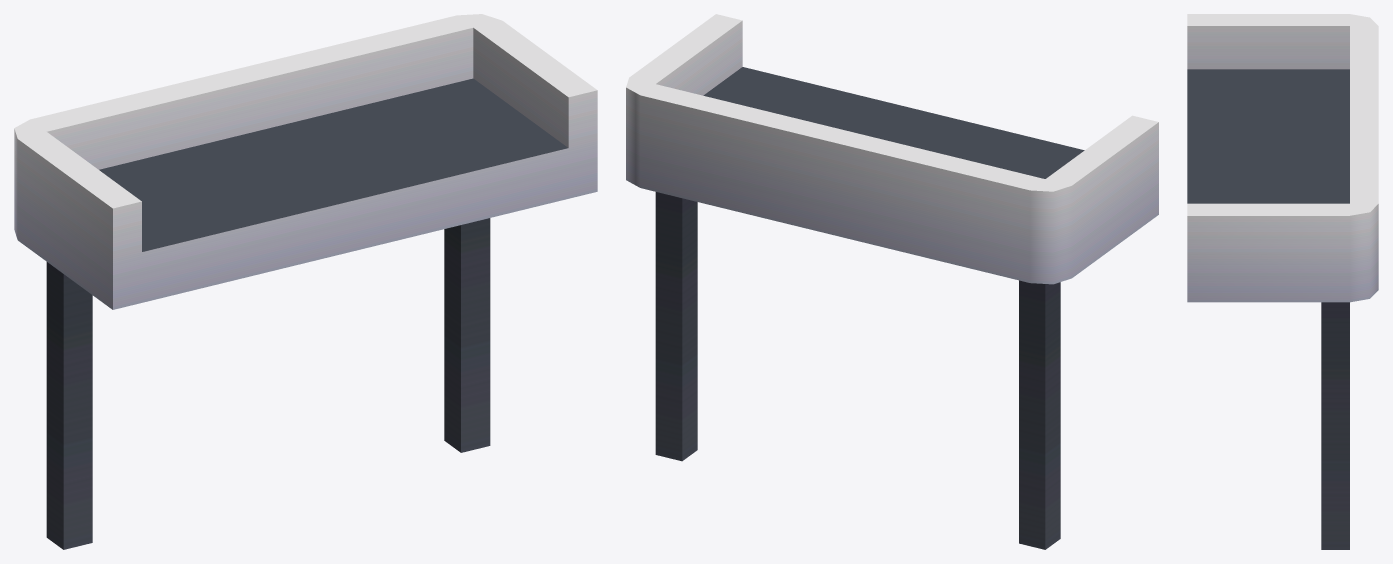
File: detail-overhang.glb
3 views of the same model, side by side, from view 1: azimuth 30°, elevation 25°; view 2: azimuth 150°, elevation 25°; view 3: azimuth 270°, elevation 25° (orthographic). The views are drawn at different scales.
Visible parts, largest first — view 1: detail-overhang; view 2: detail-overhang; view 3: detail-overhang.
Boxes of the visible parts, x1,y1,x2,y2 form: detail-overhang: (14,14,597,549); detail-overhang: (626,14,1158,549); detail-overhang: (1187,14,1378,549).
Bounding box in the file's own units: 0.5 × 0.4 × 0.2.
Materials: 1 (1 with a texture image).
